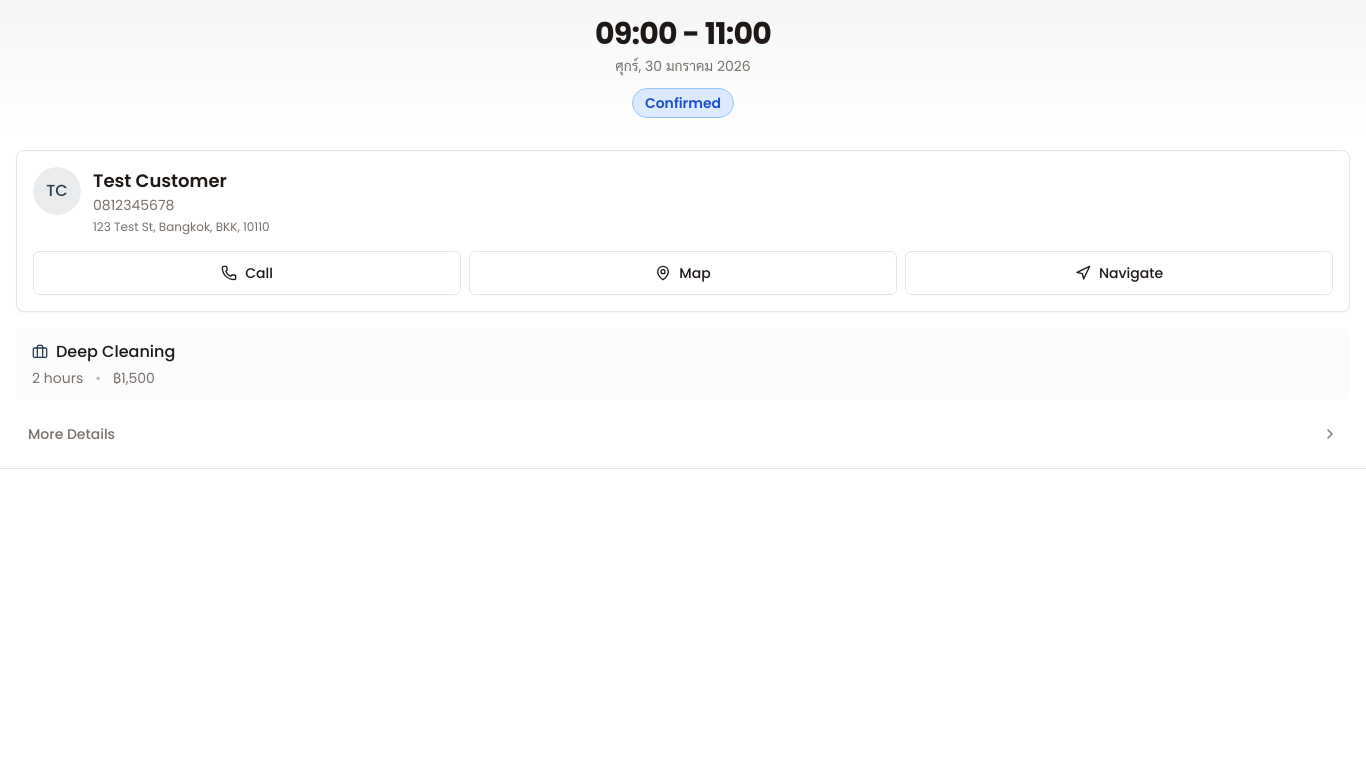
BookingDetailContent › Content Sections › shows area in expanded details
// Expand More Details
Step 1. Click the button "More Details" → (72, 434), box [16,416,1350,452]
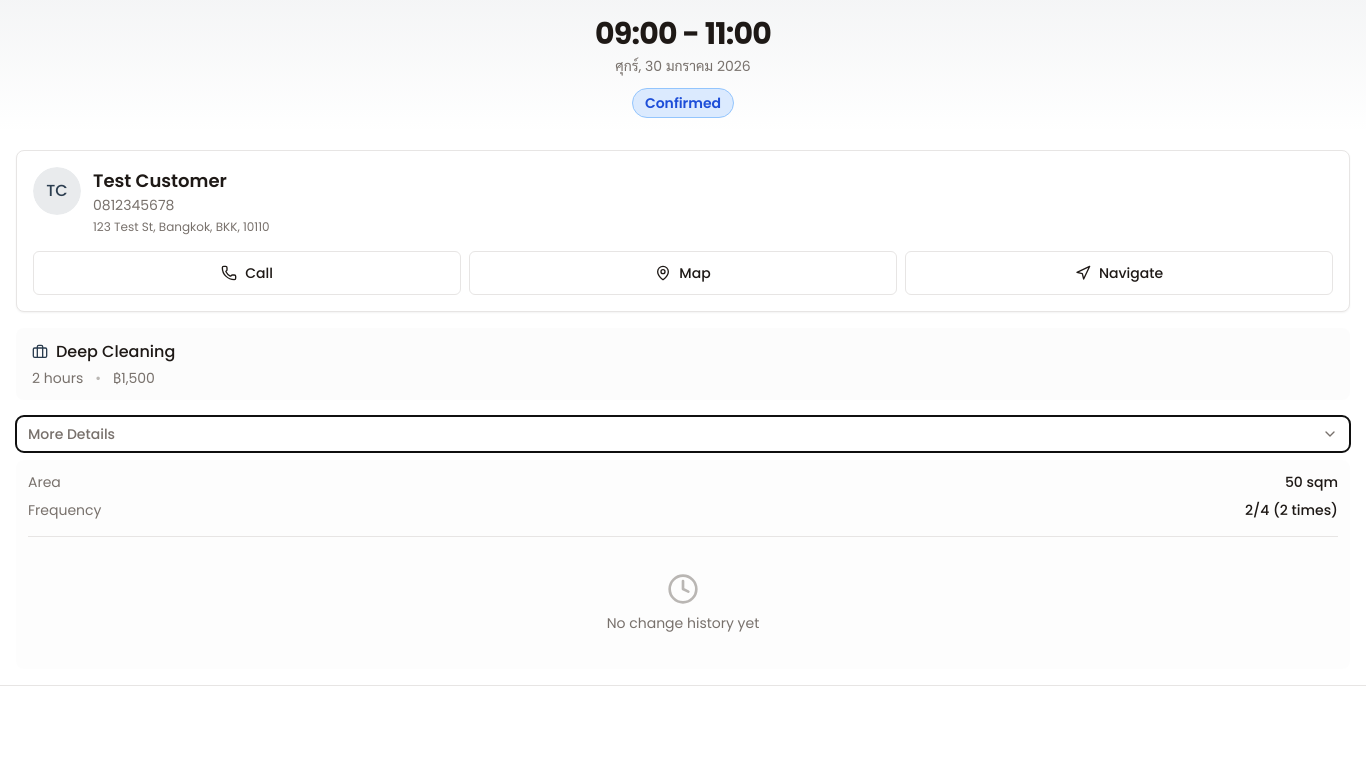
Now the text "50 sqm" is shown, box [1285,472,1338,492]
